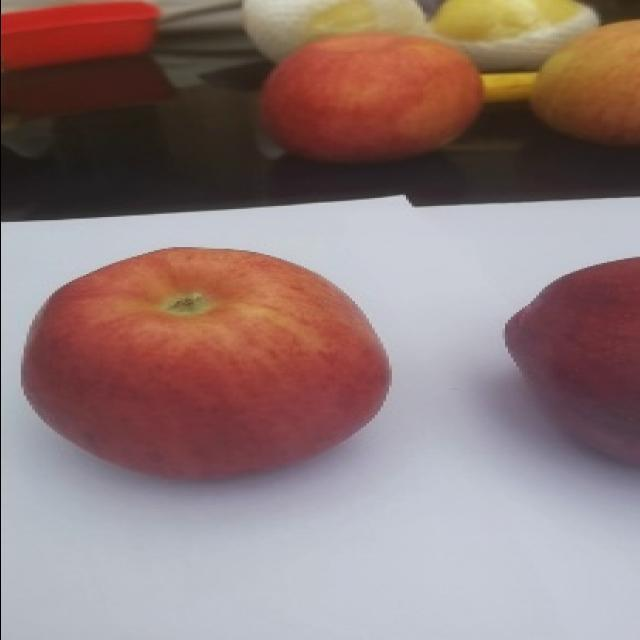Apple: (21, 244, 398, 487), (492, 256, 640, 476), (262, 32, 486, 163), (532, 17, 640, 150)
